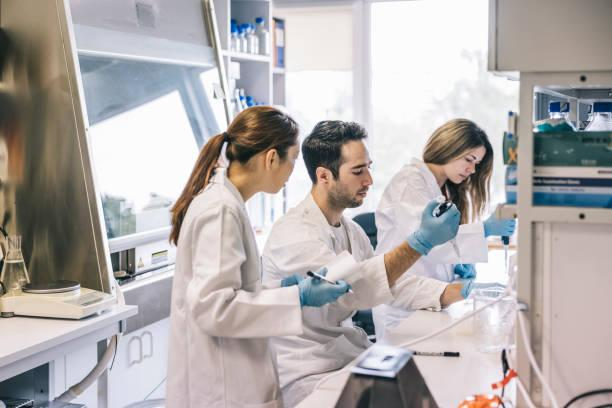lab_coat: (174, 194, 289, 407)
